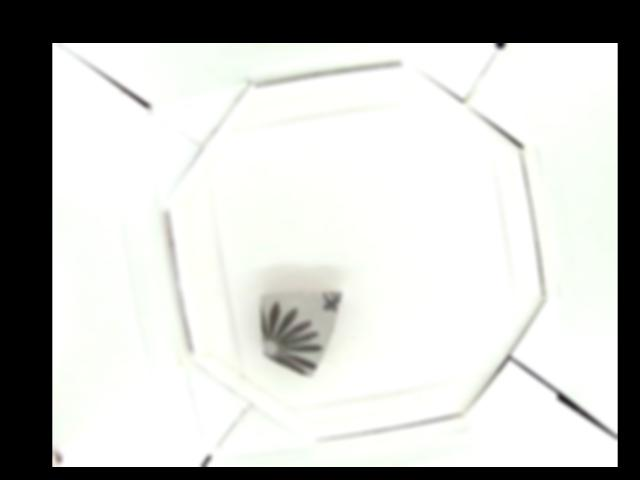China: (259, 290, 344, 376)
